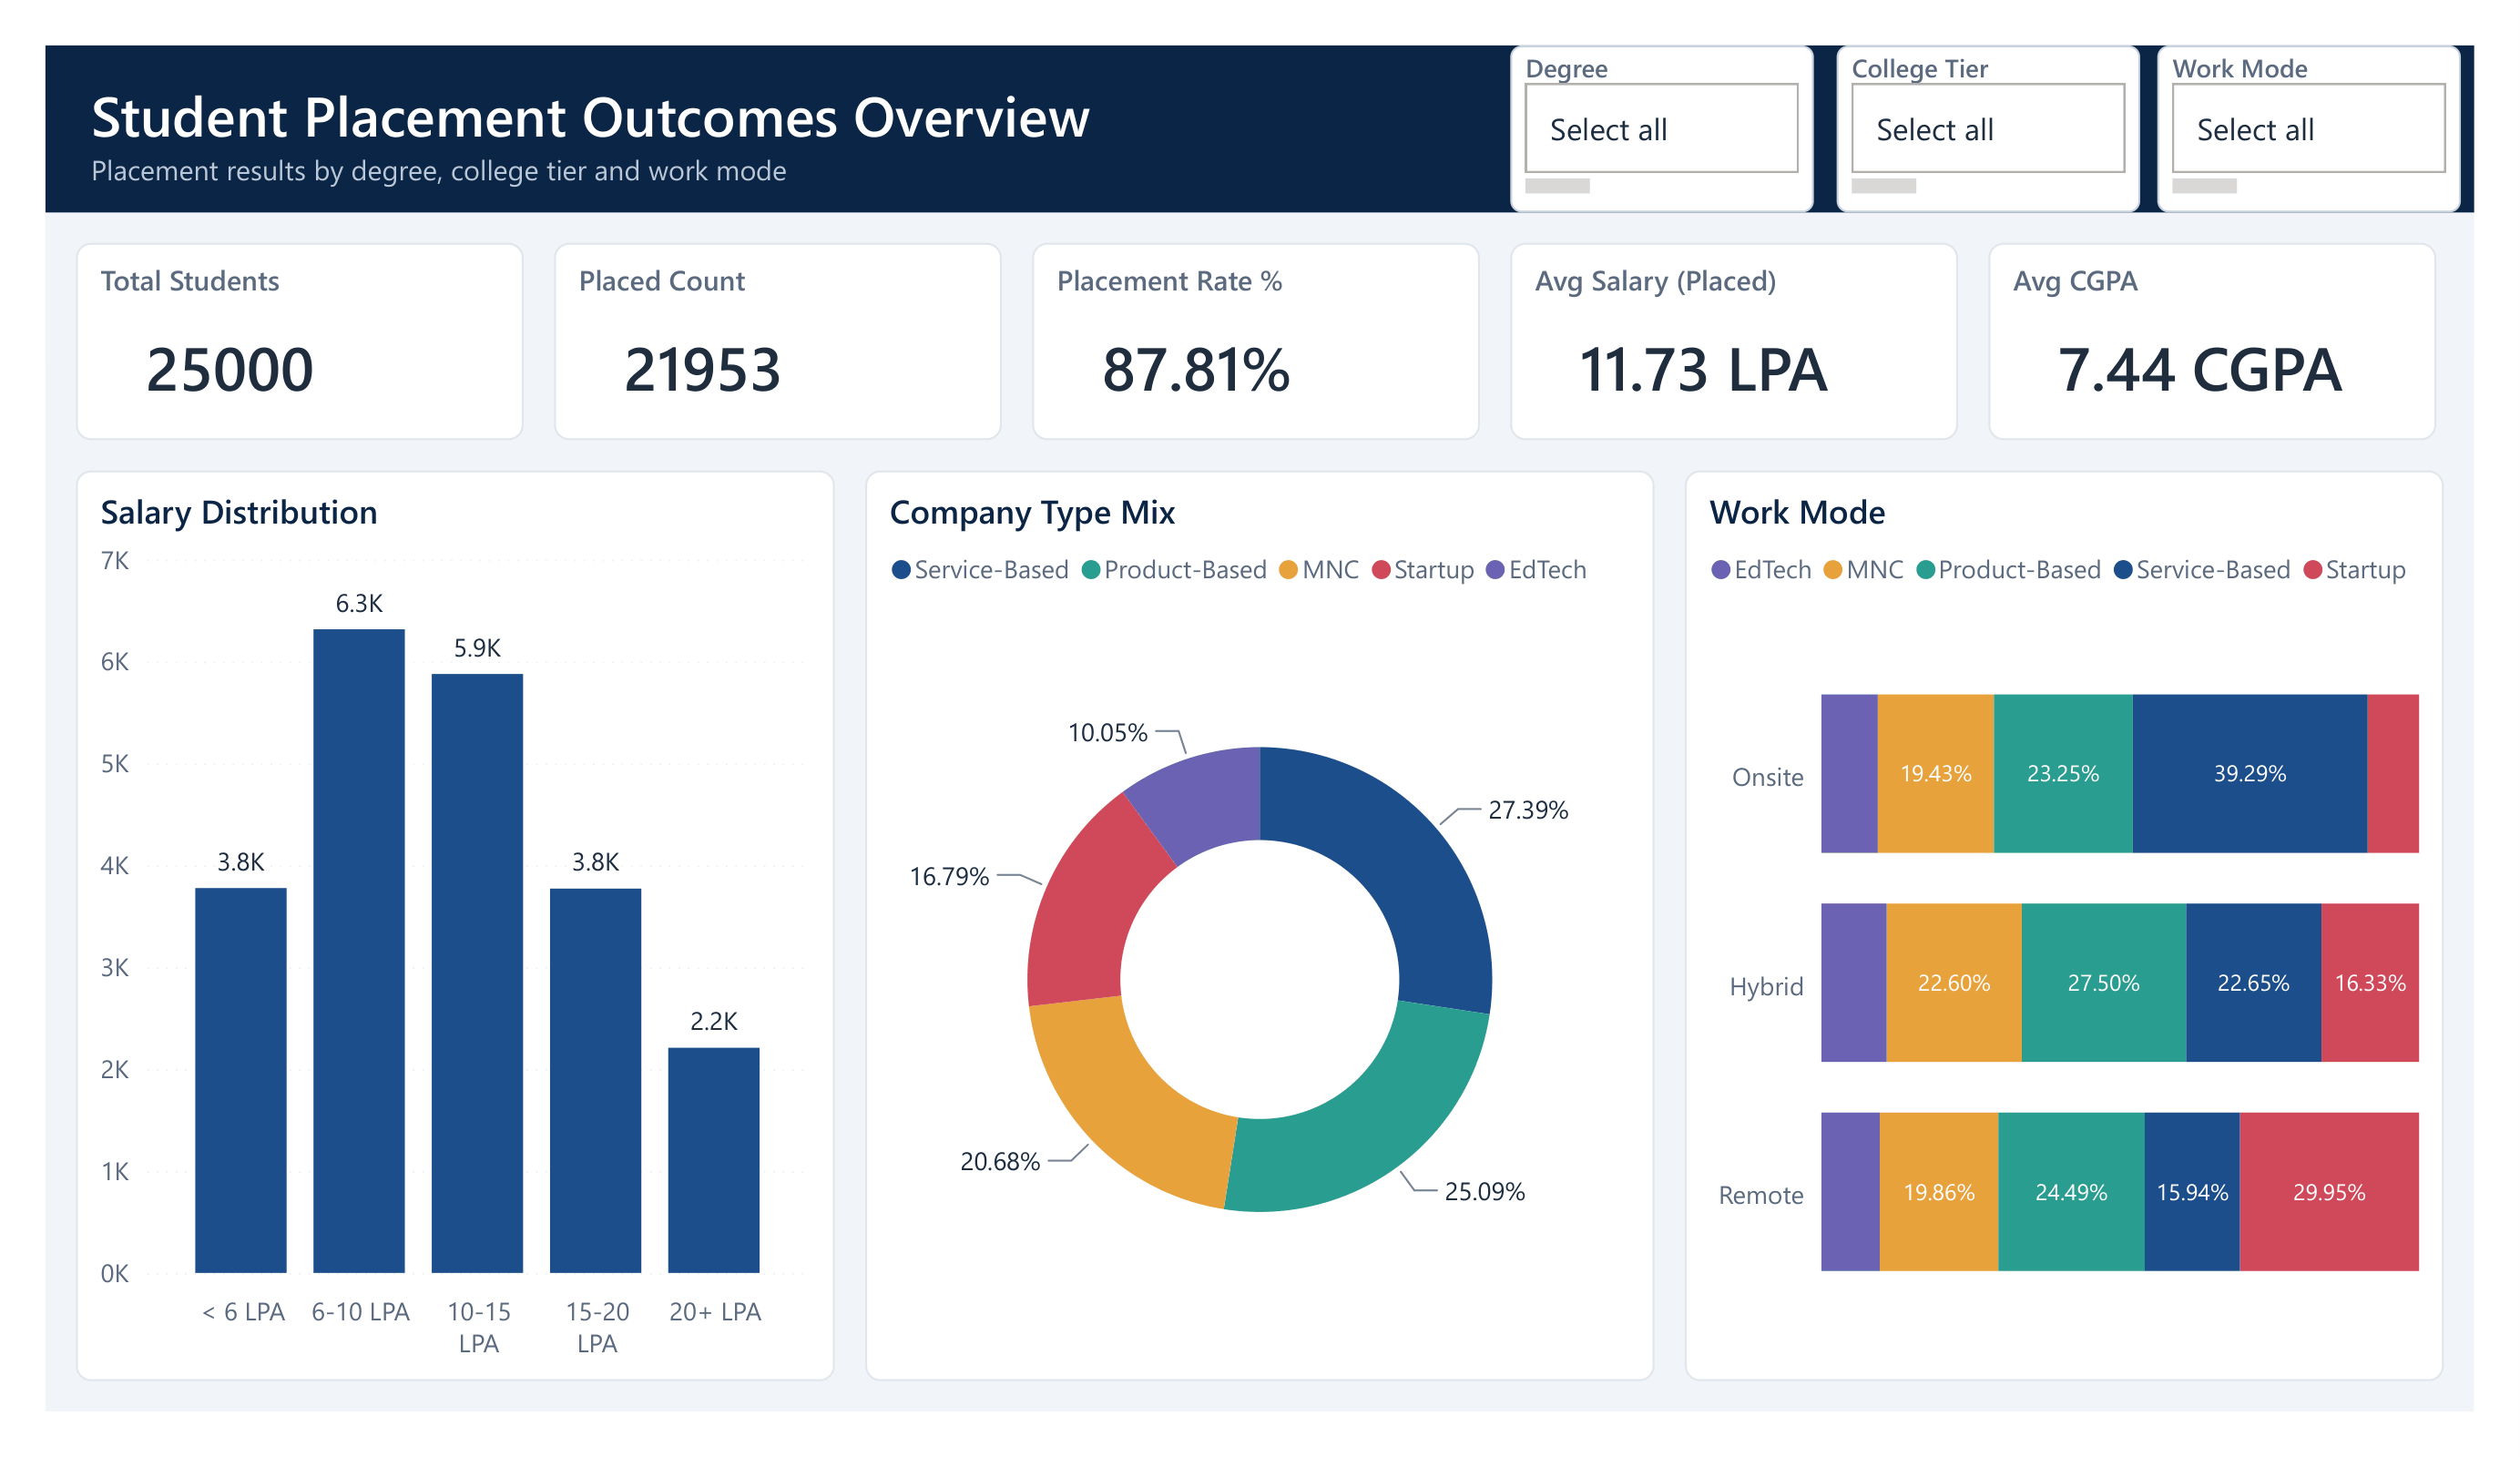

Layout of this report page (visuals, bound fields, positions):
{"tool":"powerbi","page":{"name":"Placement Outcomes","canvas":[1280,720],"ordinal":0},"visuals":[{"type":"textbox","box":[0,0,1280,88],"z":0},{"type":"advancedSlicerVisual","title":"Degree","fields":{"Values":["dim_degree.degree"]},"box":[772,0,160,88],"z":1000},{"type":"advancedSlicerVisual","title":"College Tier","fields":{"Values":["dim_college.college_tier_text"]},"box":[944,0,160,88],"z":2000},{"type":"advancedSlicerVisual","title":"Work Mode","fields":{"Values":["fact_placement.work_mode"]},"box":[1113,0,160,88],"z":3000},{"type":"cardVisual","title":"Total Students","fields":{"Data":["_Measures.Total Students"]},"box":[16,104,236,104],"z":4000},{"type":"cardVisual","title":"Placed Count","fields":{"Data":["_Measures.Placed Count"]},"box":[268,104,236,104],"z":5000},{"type":"cardVisual","title":"Placement Rate %","fields":{"Data":["_Measures.Placement Rate %"]},"box":[520,104,236,104],"z":6000},{"type":"cardVisual","title":"Avg Salary (Placed)","fields":{"Data":["_Measures.Avg Salary (Placed)"]},"box":[772,104,236,104],"z":7000},{"type":"cardVisual","title":"Avg CGPA","fields":{"Data":["_Measures.Avg CGPA"]},"box":[1024,104,236,104],"z":8000},{"type":"donutChart","title":"Company Type Mix","fields":{"Category":["dim_company.company_type"],"Y":["_Measures.Placed Count"]},"box":[432,224,416,480],"z":9000},{"type":"clusteredColumnChart","title":"Salary Distribution","fields":{"Category":["fact_placement.Salary Band"],"Y":["_Measures.Placed Count"]},"box":[16,224,400,480],"z":10000},{"type":"hundredPercentStackedBarChart","title":"Work Mode","fields":{"Category":["fact_placement.work_mode"],"Series":["dim_company.company_type"],"Y":["_Measures.Placed Count"]},"box":[864,224,400,480],"z":12000}]}

Visuals, with their boxes on the page's 1280x720 design canvas (x1, y1, x2, y2). These are canvas units, not pixel positions in the 2520x1457 screenshot, which may show the page scaled, cropped or inside an application window:
textbox: (left=0, top=0, right=1280, bottom=88)
"Degree" advancedSlicerVisual: (left=772, top=0, right=932, bottom=88)
"College Tier" advancedSlicerVisual: (left=944, top=0, right=1104, bottom=88)
"Work Mode" advancedSlicerVisual: (left=1113, top=0, right=1273, bottom=88)
"Total Students" cardVisual: (left=16, top=104, right=252, bottom=208)
"Placed Count" cardVisual: (left=268, top=104, right=504, bottom=208)
"Placement Rate %" cardVisual: (left=520, top=104, right=756, bottom=208)
"Avg Salary (Placed)" cardVisual: (left=772, top=104, right=1008, bottom=208)
"Avg CGPA" cardVisual: (left=1024, top=104, right=1260, bottom=208)
"Company Type Mix" donutChart: (left=432, top=224, right=848, bottom=704)
"Salary Distribution" clusteredColumnChart: (left=16, top=224, right=416, bottom=704)
"Work Mode" hundredPercentStackedBarChart: (left=864, top=224, right=1264, bottom=704)
